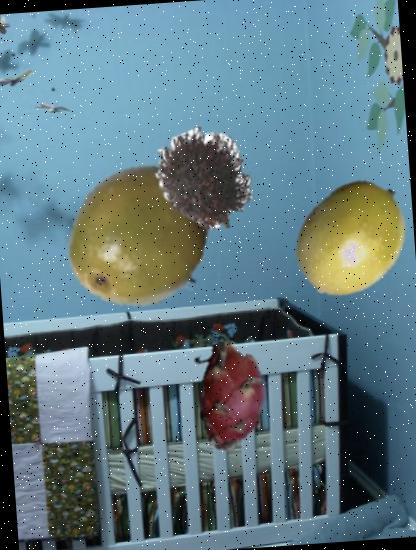Maracuja: (61, 156, 221, 316), (284, 172, 416, 305)
Pitahaya: (176, 337, 291, 452)
Rambutan: (149, 125, 261, 236)
